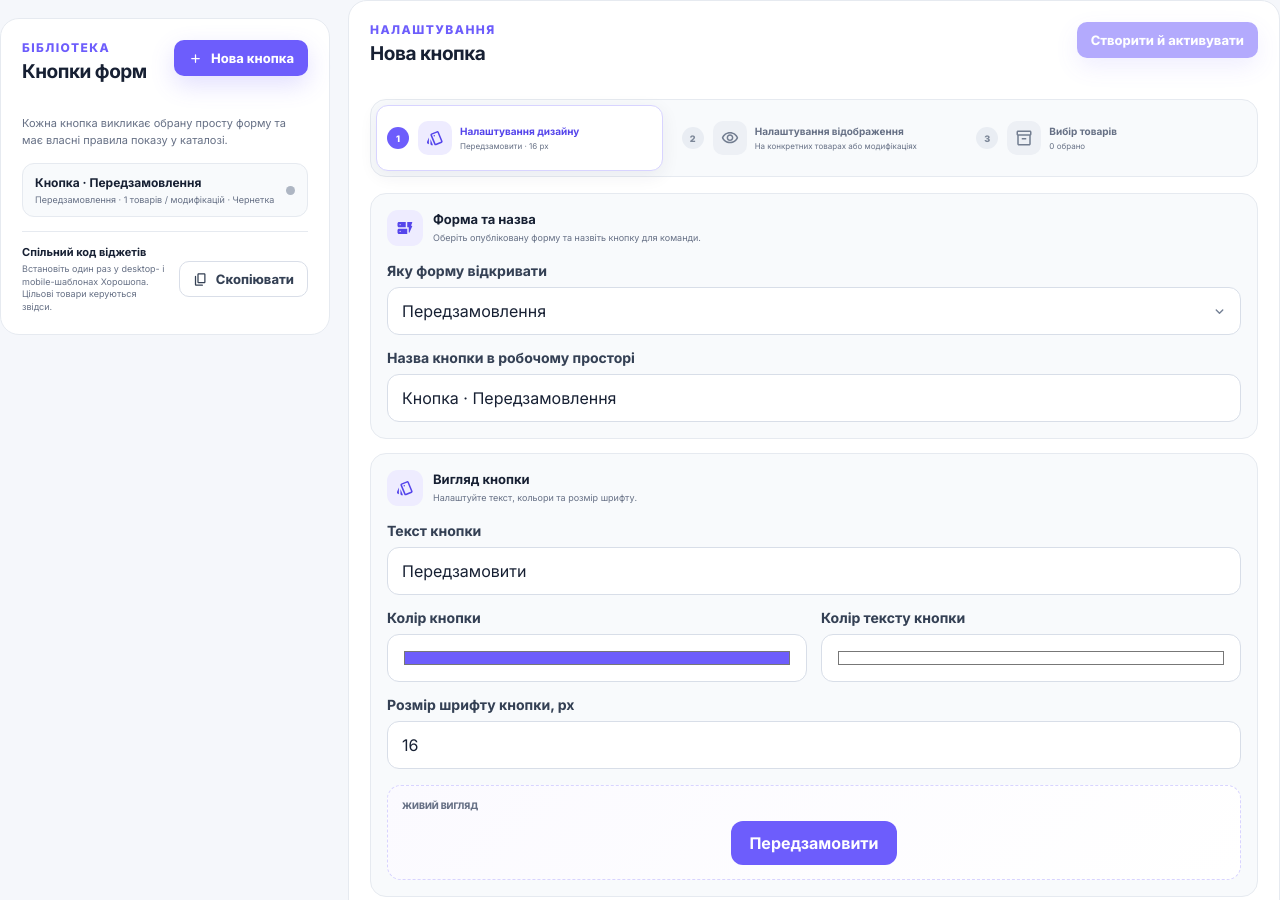
Scenario: ApplicationFormPlacementEditor product tree › keeps the campaign status and all actions in the settings header
The image size is (1280, 900).
Click the button that starts with "Кнопка · Передзамовлення" at {"x": 165, "y": 190}, box [22, 163, 308, 217]
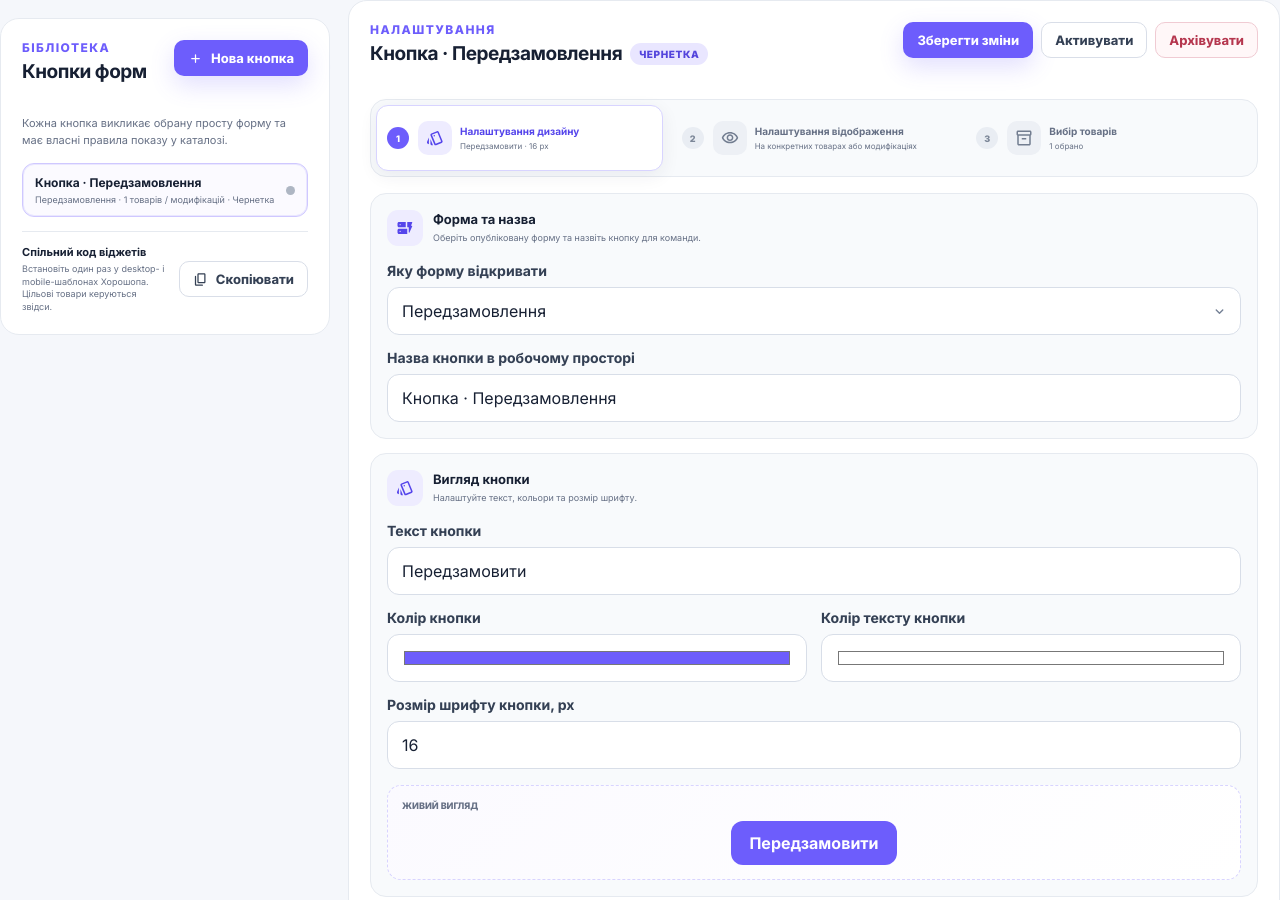
expect the text "Чернетка" is shown: met, box [630, 42, 708, 64]
expect the button "Зберегти зміни" is shown: met, box [903, 22, 1033, 58]
expect the button "Архівувати" is shown: met, box [1155, 22, 1258, 58]
